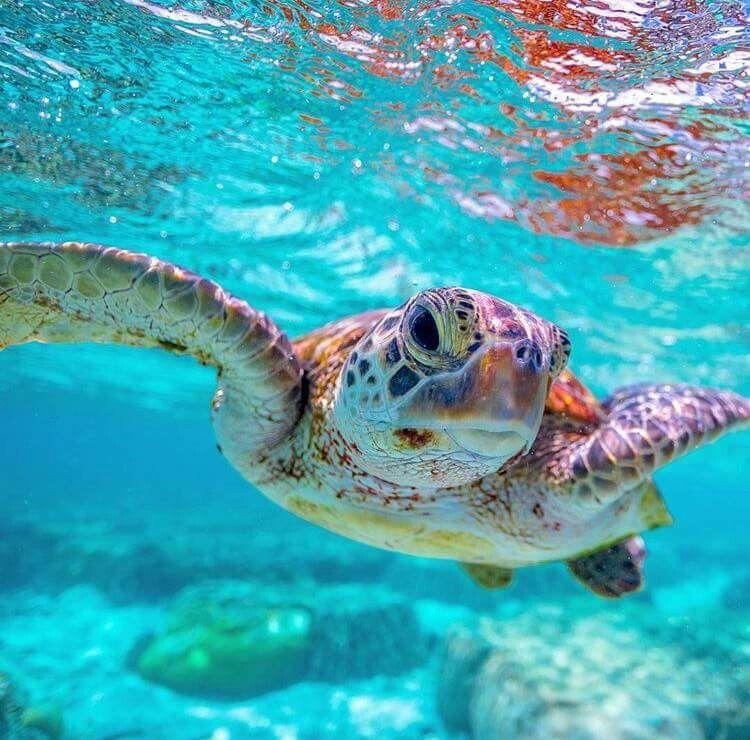turtle: (318, 272, 579, 505)
